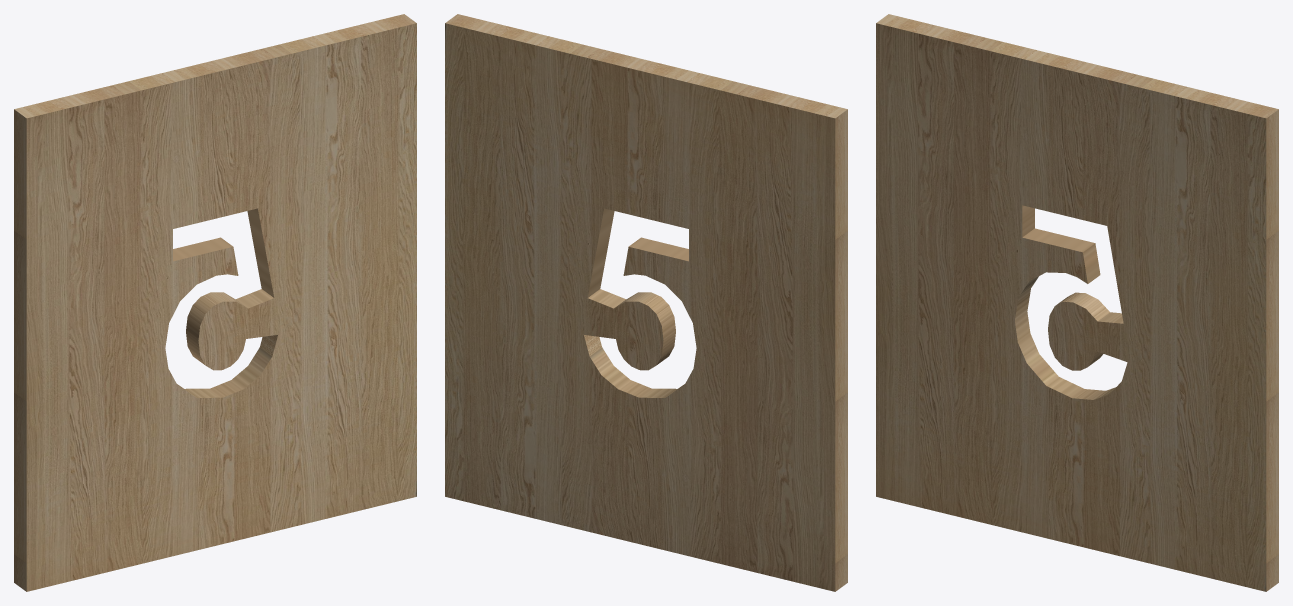
3 views of the same model, side by side, from view 1: azimuth 30°, elevation 25°; view 2: azimuth 150°, elevation 25°; view 3: azimuth 330°, elevation 25° (orthographic).
Visible parts, largest first — view 1: so5; view 2: so5; view 3: so5.
Part boxes in pixels (<box>): so5: <box>14,14,416,591</box>; so5: <box>445,14,847,591</box>; so5: <box>876,14,1278,591</box>.
Bounding box in the file's own units: 2.89 × 3.36 × 0.1618.
Materials: 1 (1 with a texture image).
